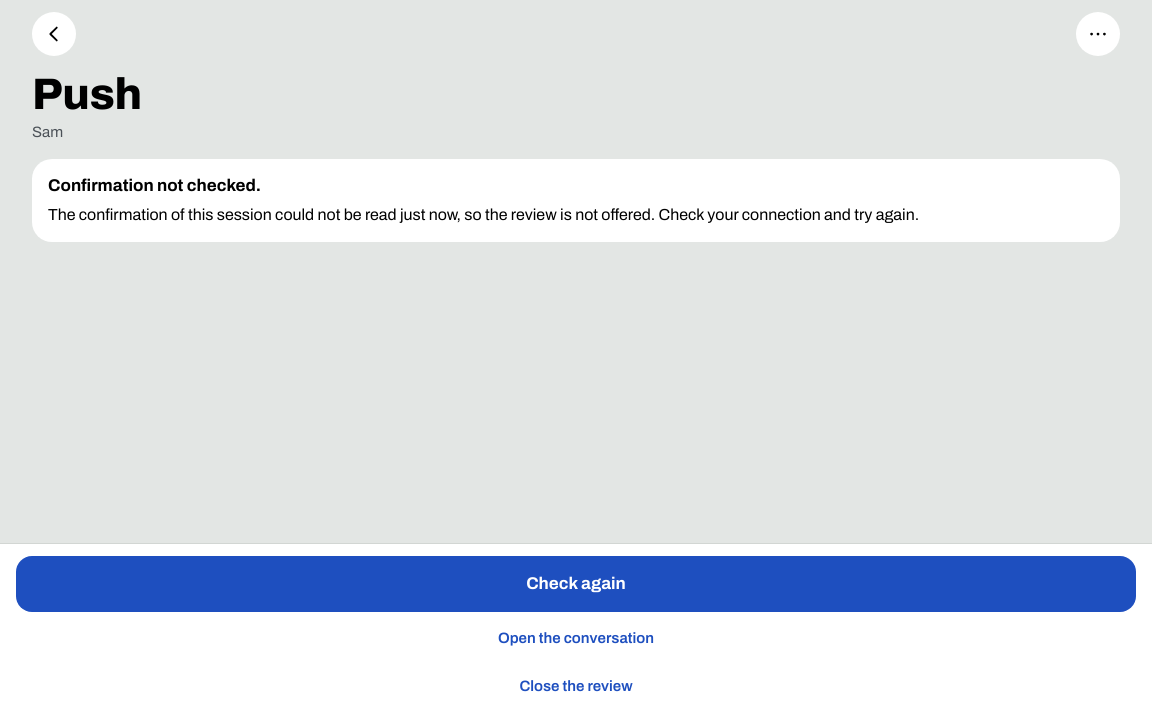
Test: <SessionReview /> on the real confirmation query › says the read failed, not that the session is unconfirmed, and recovers on "Check again"
Check: the heading "Confirmation not checked." is shown, box [48,176,261,195]
Check: the field labelled "your feedback" is not shown
What coordinates should you click on to do the following:
click the button "Check again"
I would click on:
 (576, 584)
Its box is [16,556,1136,612].
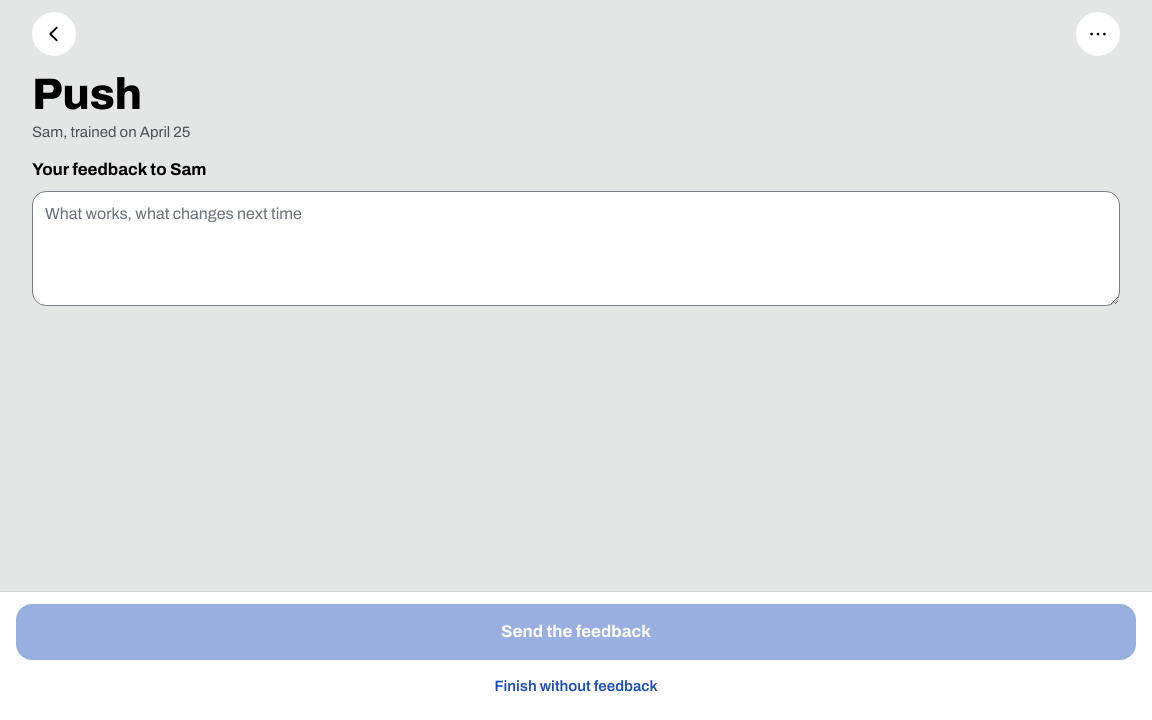
Check: the text box labelled "Your feedback to Sam" is shown, box [32,191,1120,306]
Check: the heading "Confirmation not checked" is gone
